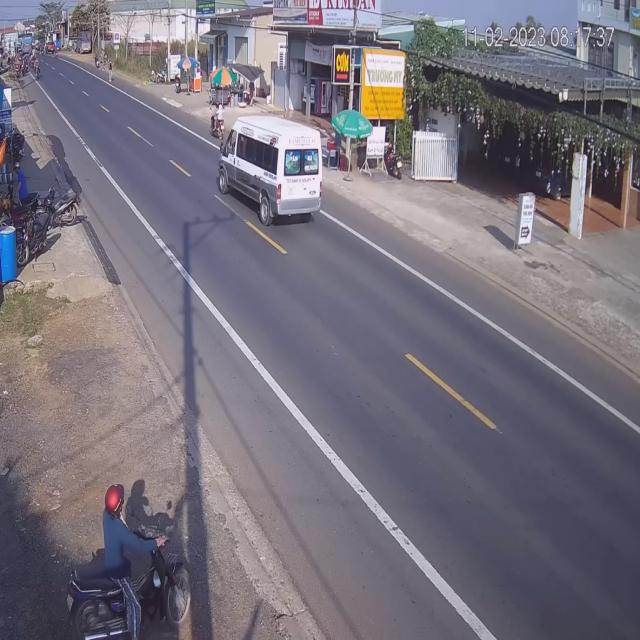bus: (221, 110, 323, 227)
motorbike: (64, 483, 188, 640), (211, 102, 227, 144)
